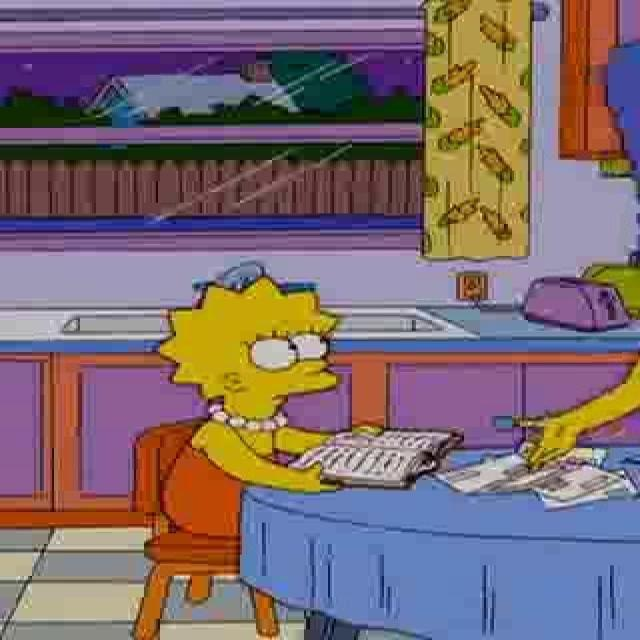Lisa Simpson: (161, 278, 347, 426)
